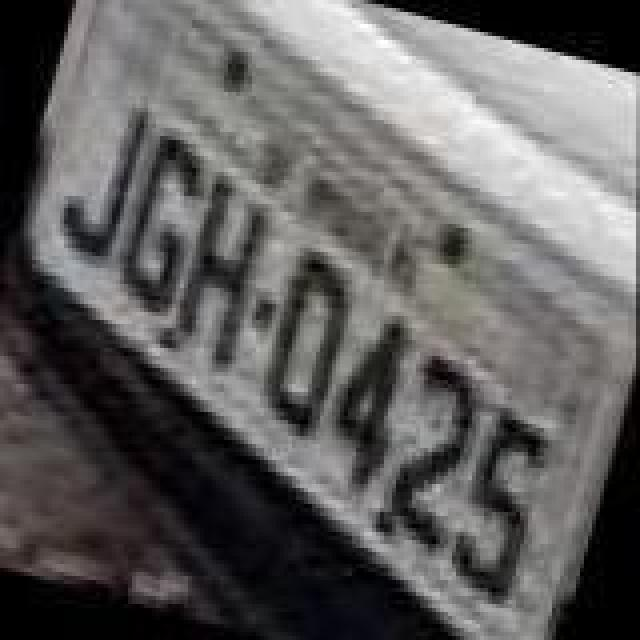2: (376, 352, 492, 560)
4: (314, 308, 426, 500)
5: (442, 400, 562, 608)
G: (106, 128, 218, 320)
H: (160, 166, 284, 378)
J: (48, 94, 156, 266)
O: (248, 242, 372, 446)
